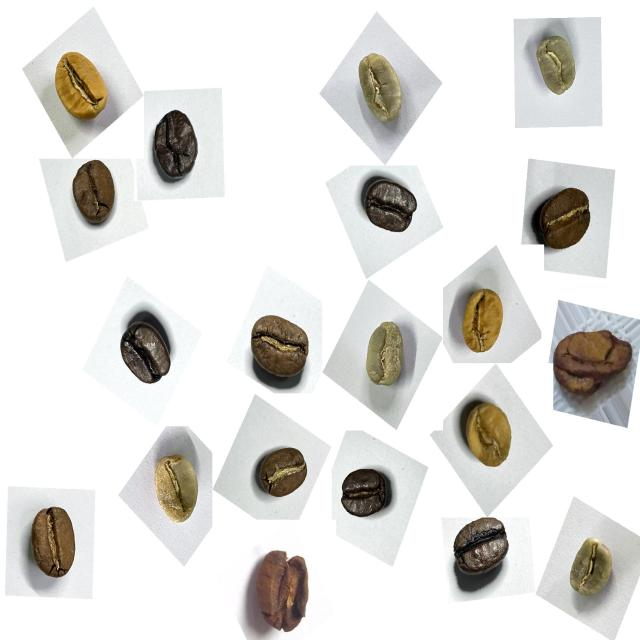bad: (544, 317, 637, 416), (240, 543, 321, 640)
dark: (107, 304, 181, 396), (142, 101, 212, 194), (446, 512, 522, 595), (354, 168, 425, 249), (335, 457, 401, 532)
green: (347, 46, 417, 139), (142, 446, 209, 539), (355, 313, 419, 401), (524, 26, 590, 110), (561, 528, 627, 612)
light: (43, 40, 117, 134), (454, 390, 523, 480), (453, 278, 516, 363)
medium: (242, 302, 321, 393), (16, 495, 90, 592), (528, 175, 603, 260), (60, 153, 126, 236), (248, 436, 316, 509)
